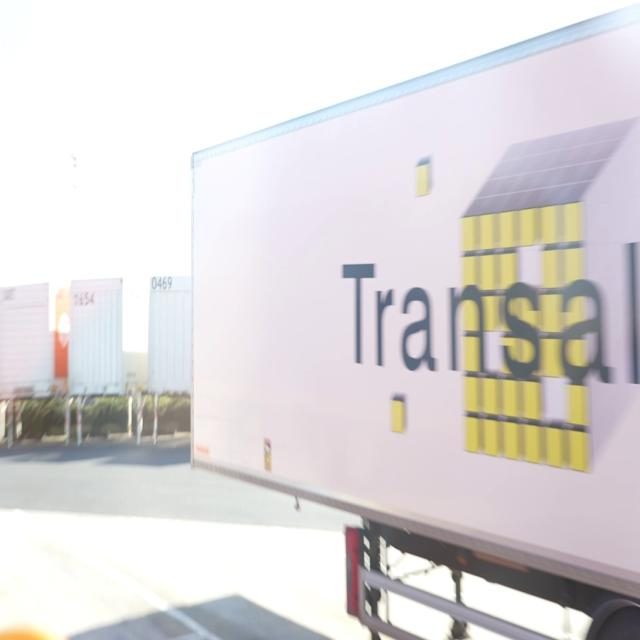Code: (70, 287, 101, 311), (148, 273, 176, 298)
